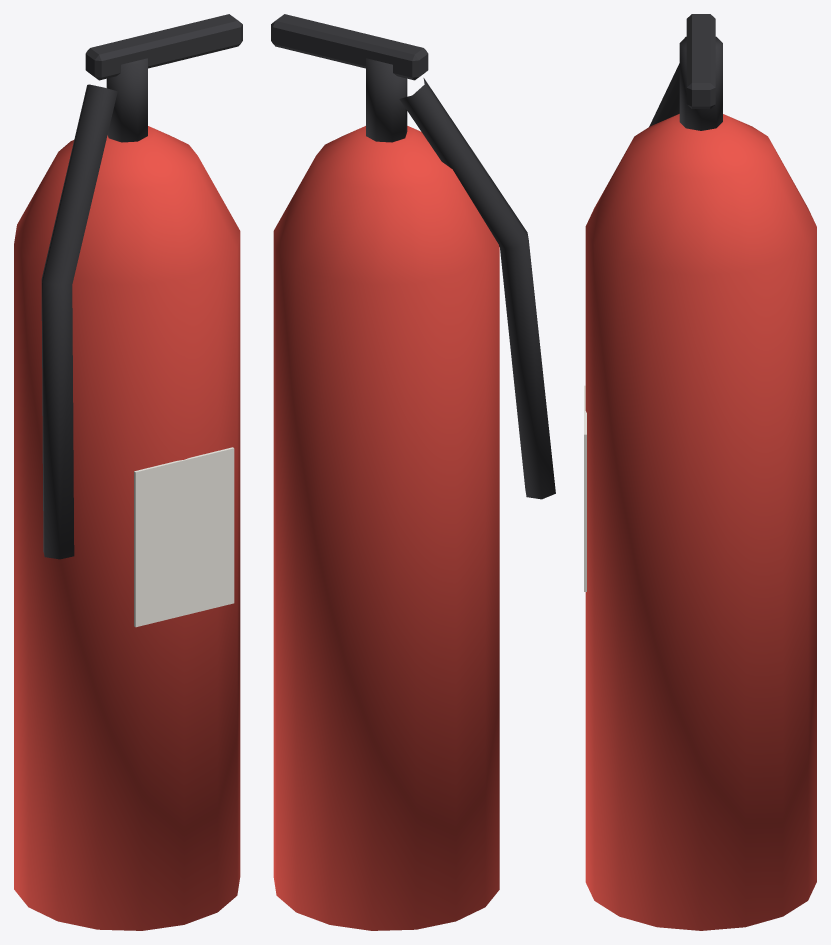
File: fire_extinguisher.glb
3 renders of one model, left to right at view 1: azimuth 30°, elevation 25°; view 2: azimuth 150°, elevation 25°; view 3: azimuth 270°, elevation 25°, orthographic.
Visible parts, largest first — view 1: fire_extinguisher; view 2: fire_extinguisher; view 3: fire_extinguisher.
Part boxes in pixels (box(x1,y1,x2,y2)): fire_extinguisher: box(14, 14, 242, 930); fire_extinguisher: box(271, 14, 555, 930); fire_extinguisher: box(584, 14, 816, 930).
Size of the model in its own units: 0.192 by 0.65 by 0.161.
